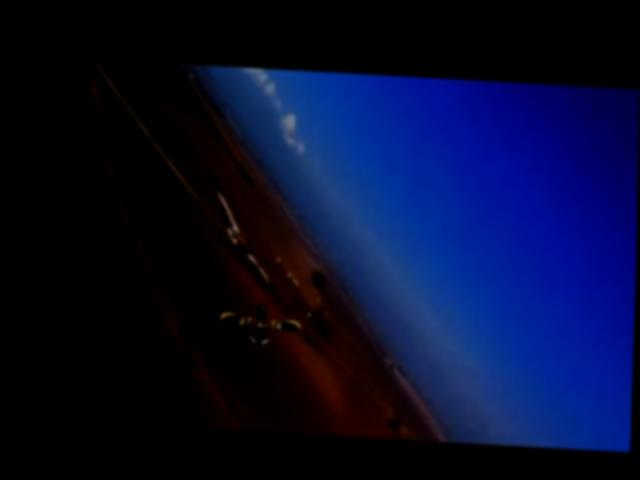uav: (217, 298, 305, 351)
